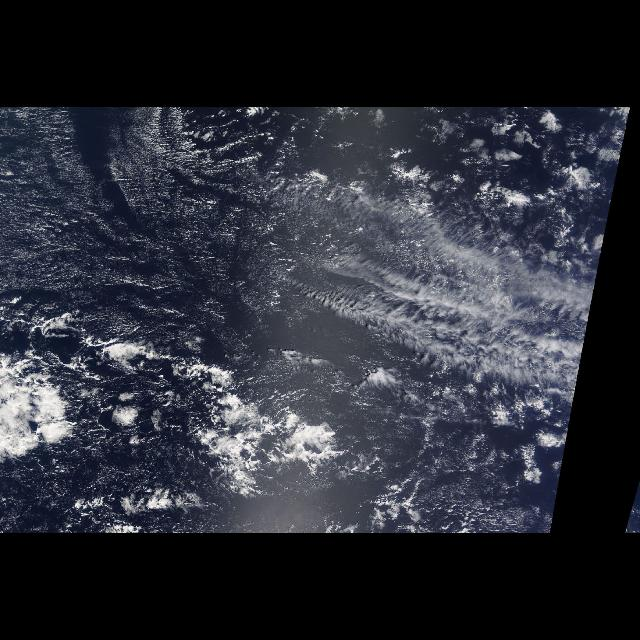Sugar: (0, 107, 302, 331)
